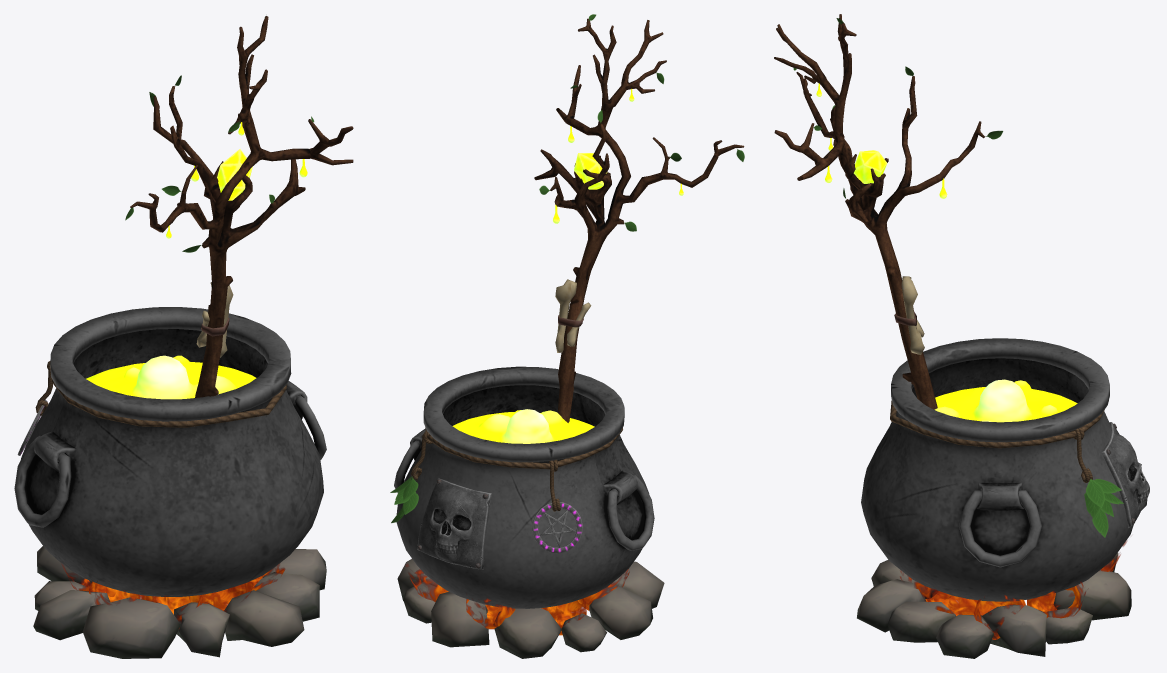
The picture shows the model from 3 angles, left to right: view 1: azimuth 30°, elevation 25°; view 2: azimuth 150°, elevation 25°; view 3: azimuth 270°, elevation 25°; orthographic projection. The views are drawn at different scales.
Visible parts, largest first — view 1: Cauldron, Fire; view 2: Cauldron, Fire; view 3: Cauldron, Fire.
Part boxes in pixels (left/top/right/bottom): Cauldron: left=14, top=16, right=353, bottom=658; Fire: left=61, top=563, right=285, bottom=628; Cauldron: left=390, top=14, right=744, bottom=658; Fire: left=405, top=563, right=629, bottom=635; Cauldron: left=774, top=14, right=1149, bottom=658; Fire: left=900, top=540, right=1127, bottom=639.
Bounding box in the file's own units: 2.76 × 5.7 × 3.29.
Materials: 2 (2 with a texture image).
